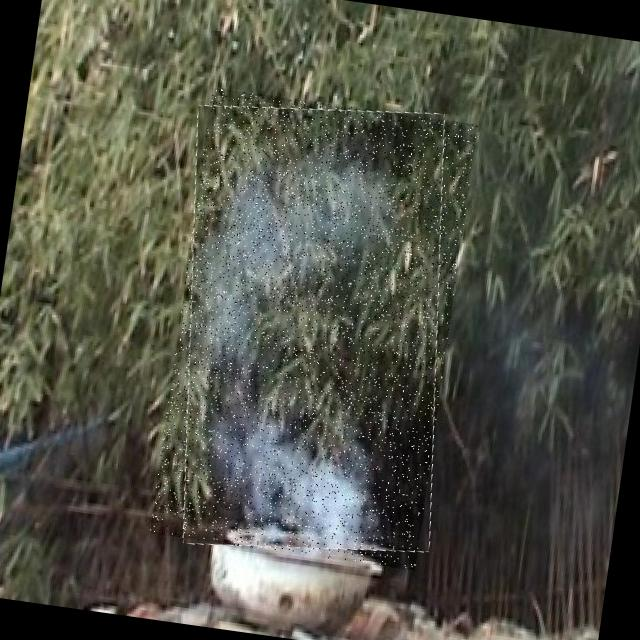Smoke: (150, 88, 478, 570)
